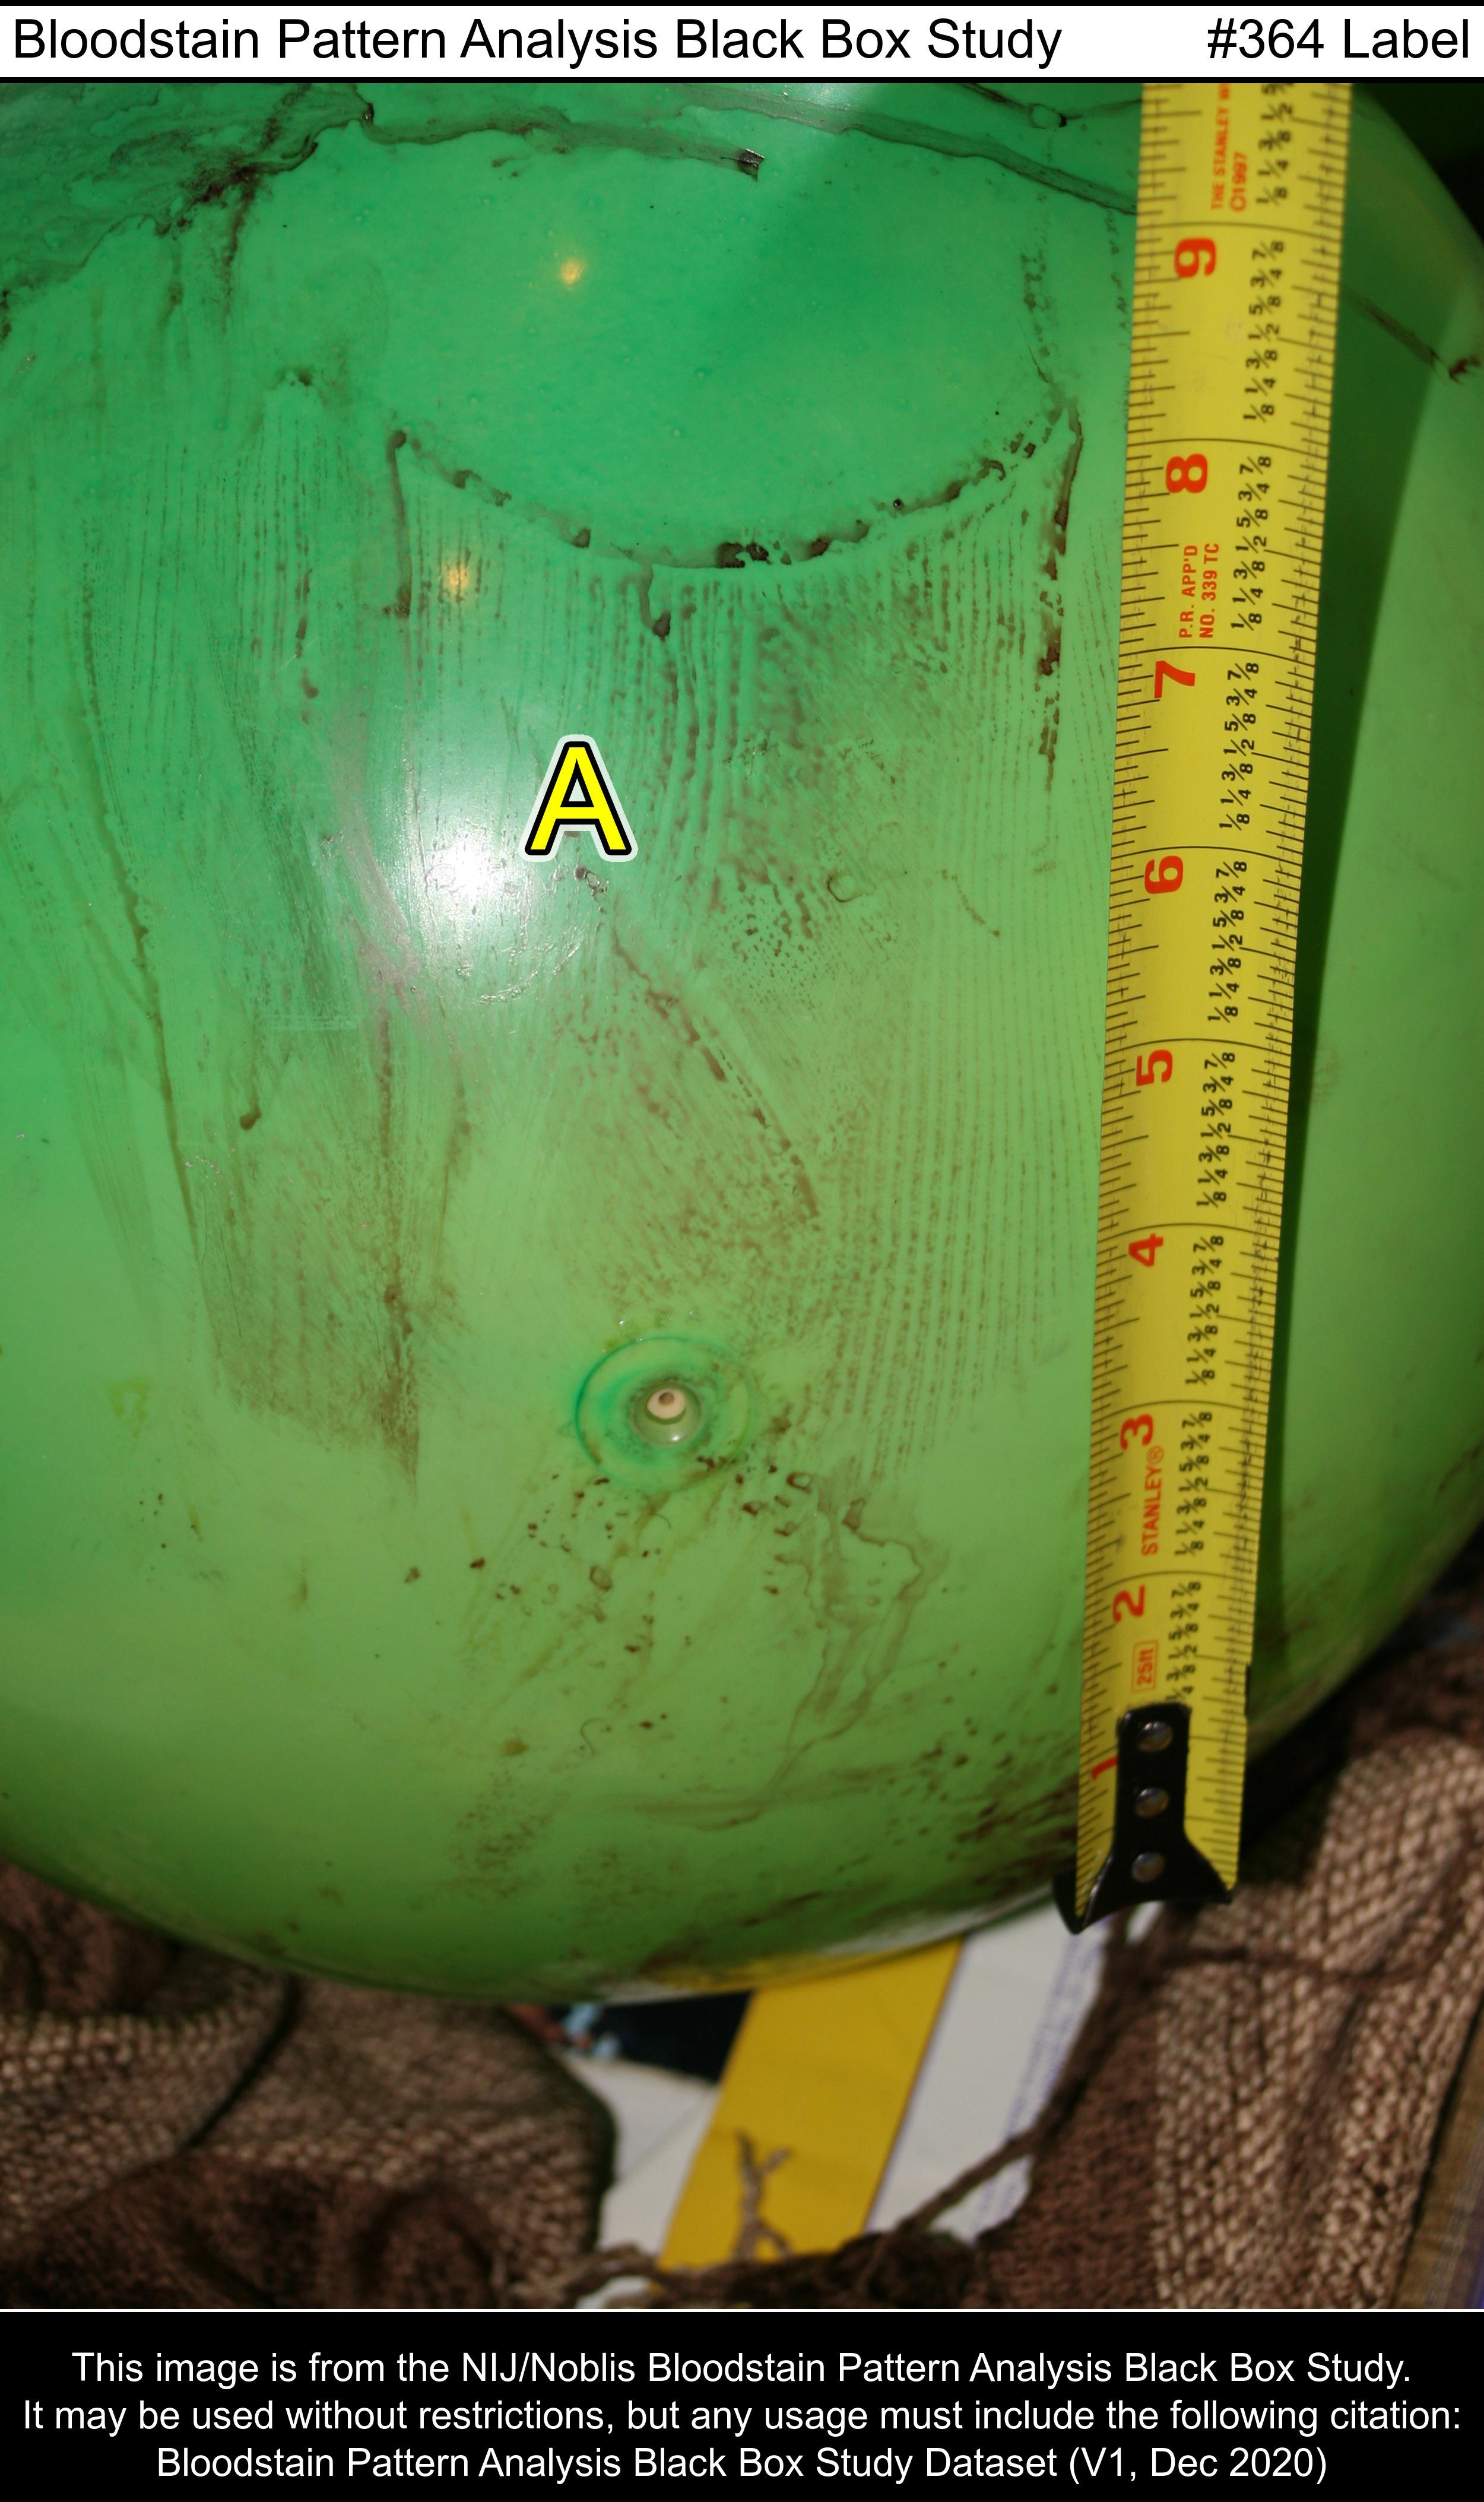Transfer: (101, 885, 1083, 2041)
